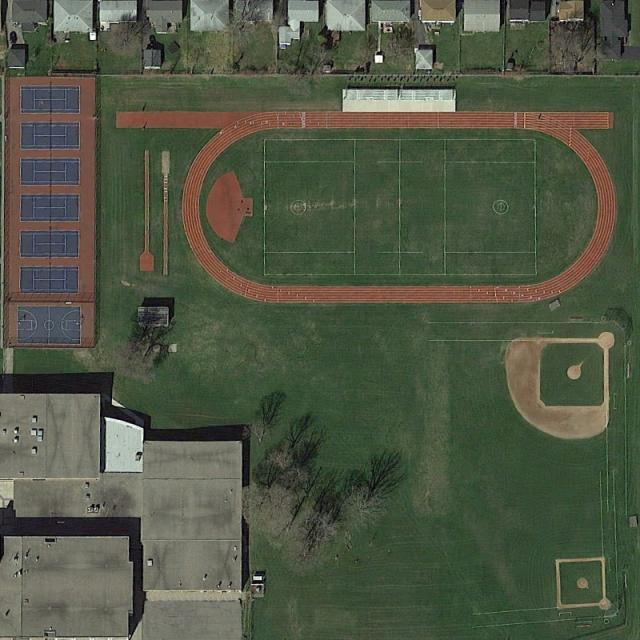vehicle: (10, 32, 16, 44)
